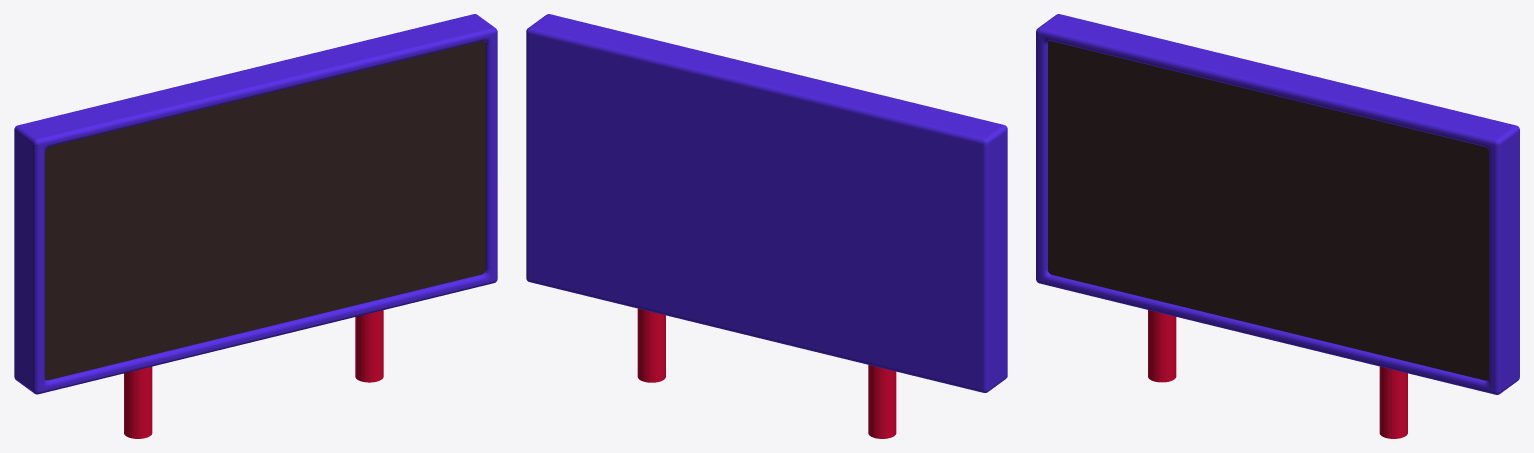
File: display module.fbx
3 renders of one model, left to right at view 1: azimuth 30°, elevation 25°; view 2: azimuth 150°, elevation 25°; view 3: azimuth 330°, elevation 25°, orthographic.
Visible parts, largest first — view 1: screen, panel, conduit right, conduit left; view 2: panel, conduit right, conduit left; view 3: screen, panel, conduit left, conduit right.
Part boxes in pixels (x1=…): screen: x1=44, y1=41, x2=485, y2=380; panel: x1=14, y1=14, x2=497, y2=394; conduit right: x1=355, y1=310, x2=383, y2=382; conduit left: x1=124, y1=366, x2=152, y2=438; panel: x1=526, y1=14, x2=1007, y2=392; conduit right: x1=637, y1=308, x2=665, y2=382; conduit left: x1=868, y1=365, x2=896, y2=438; screen: x1=1048, y1=41, x2=1489, y2=380; panel: x1=1036, y1=14, x2=1519, y2=394; conduit left: x1=1148, y1=310, x2=1176, y2=382; conduit right: x1=1379, y1=366, x2=1407, y2=438.
Size of the model in its own units: 398 by 269 by 33.94.
